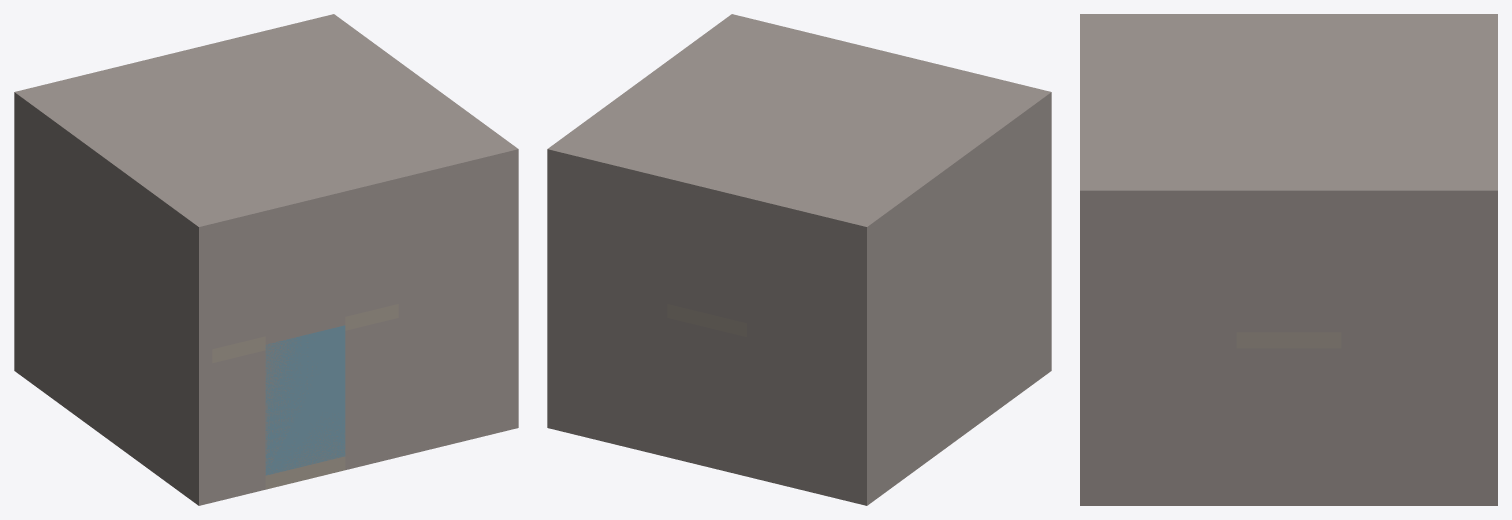
File: creek-spring-mirror.glb
3 renders of one model, left to right at view 1: azimuth 30°, elevation 25°; view 2: azimuth 150°, elevation 25°; view 3: azimuth 270°, elevation 25°, orthographic. The views are drawn at different scales.
Visible parts, largest first — view 1: rock_40, rock_5, rock_29, plug_creek_south, water_3, rock_9, rock_12, rock_10, rock_11, rock_18, rock_24, rock_16 (+14 smaller); view 2: rock_40, rock_5, rock_1, rock_2, rock_29, rock_25, rock_26, rock_13, plug_north, rock_3, rock_37, rock_27 (+1 smaller); view 3: rock_40, rock_8, rock_32, rock_21, rock_7, plug_east, rock_31, rock_4, rock_6, rock_30, rock_28, rock_38 (+3 smaller).
Part boxes in pixels (<box>): rock_40: <box>14,14,518,240</box>; rock_5: <box>37,234,212,505</box>; rock_29: <box>37,123,212,352</box>; plug_creek_south: <box>212,206,398,349</box>; water_3: <box>265,325,345,475</box>; rock_9: <box>478,278,505,437</box>; rock_12: <box>398,297,425,456</box>; rock_10: <box>452,284,478,443</box>; rock_11: <box>425,291,451,450</box>; rock_18: <box>239,350,265,495</box>; rock_24: <box>372,318,398,463</box>; rock_16: <box>212,357,238,502</box>; rock_40: <box>547,14,1051,240</box>; rock_5: <box>890,218,1051,488</box>; rock_1: <box>747,323,874,505</box>; rock_2: <box>547,274,667,456</box>; rock_29: <box>890,106,1051,335</box>; rock_25: <box>747,212,874,352</box>; rock_26: <box>547,163,667,303</box>; rock_13: <box>667,318,746,476</box>; plug_north: <box>667,220,746,323</box>; rock_3: <box>874,336,889,499</box>; rock_37: <box>667,192,746,239</box>; rock_27: <box>874,224,889,346</box>; rock_40: <box>1080,14,1497,206</box>; rock_8: <box>1080,332,1236,505</box>; rock_32: <box>1080,206,1236,332</box>; rock_21: <box>1236,348,1341,505</box>; rock_7: <box>1341,332,1410,505</box>; plug_east: <box>1236,238,1341,332</box>; rock_31: <box>1341,206,1410,332</box>; rock_4: <box>1445,332,1480,505</box>; rock_6: <box>1410,332,1445,505</box>; rock_30: <box>1410,206,1445,332</box>; rock_28: <box>1445,206,1480,332</box>; rock_38: <box>1236,206,1341,237</box>.
Bounding box in the file's own units: 12 × 10 × 12.
